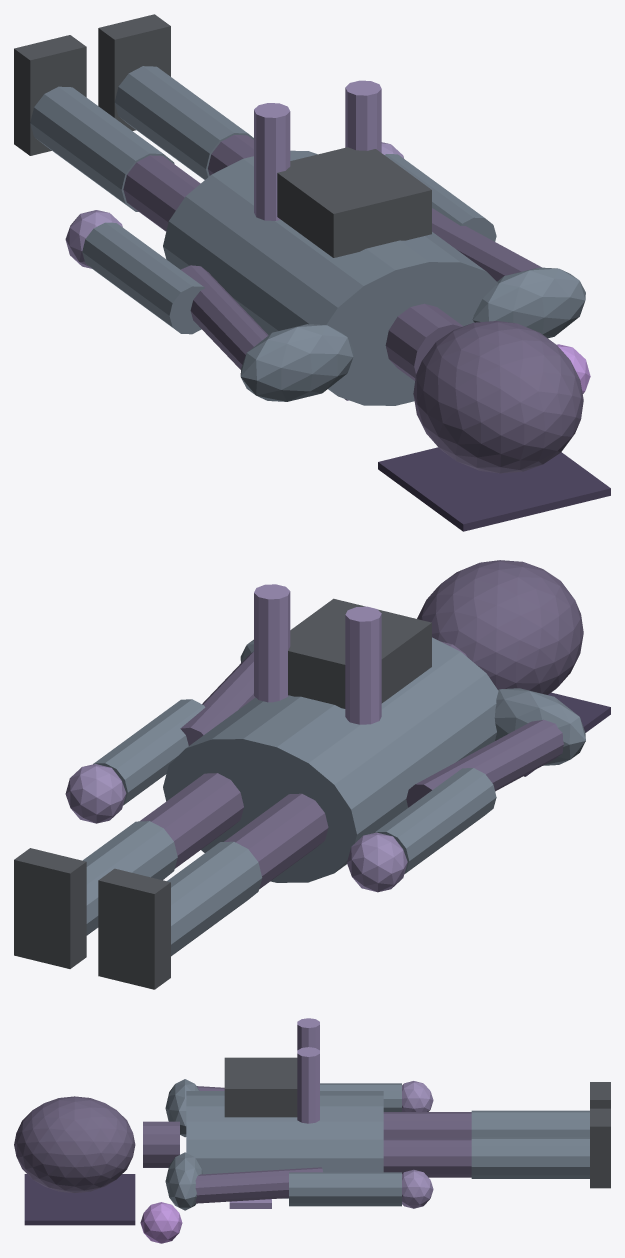
File: SWN-030_mael_corvic.glb
The picture shows the model from 3 angles, top to bottom: view 1: azimuth 30°, elevation 25°; view 2: azimuth 150°, elevation 25°; view 3: azimuth 270°, elevation 25°; orthographic projection. The views are drawn at different scales.
Parts seen in each view (by area): view 1: body_spine, head, back_thruster_pack, shadow_veil, greave_-1, greave_1, shoulder_plate_-1, forearm_gauntlet_-1, shoulder_plate_1, boot_-1, boot_1, upper_arm_-1 (+8 smaller); view 2: body_spine, head, back_thruster_pack, boot_-1, boot_1, greave_-1, forearm_gauntlet_-1, thigh_1, thigh_-1, upper_arm_-1, forearm_gauntlet_1, greave_1 (+7 smaller); view 3: body_spine, head, greave_1, shadow_veil, back_thruster_pack, forearm_gauntlet_1, greave_-1, thigh_1, upper_arm_1, thigh_-1, aether_thruster_1, boot_1 (+10 smaller).
Boxes of the visible parts, x1,y1,x2,y2 form: body_spine: [163, 150, 498, 405]; head: [413, 321, 583, 473]; back_thruster_pack: [277, 147, 431, 257]; shadow_veil: [378, 447, 610, 531]; greave_-1: [30, 86, 174, 211]; greave_1: [114, 66, 253, 179]; shoulder_plate_-1: [240, 324, 353, 401]; forearm_gauntlet_-1: [82, 222, 204, 334]; shoulder_plate_1: [472, 267, 585, 338]; boot_-1: [14, 35, 86, 155]; boot_1: [98, 14, 170, 130]; upper_arm_-1: [181, 265, 268, 369]; body_spine: [163, 637, 498, 882]; head: [417, 560, 583, 694]; back_thruster_pack: [288, 598, 431, 708]; boot_-1: [98, 868, 170, 989]; boot_1: [14, 848, 86, 968]; greave_-1: [167, 841, 262, 956]; forearm_gauntlet_-1: [374, 768, 496, 873]; thigh_1: [140, 773, 243, 868]; thigh_-1: [224, 793, 328, 889]; upper_arm_-1: [406, 719, 563, 807]; forearm_gauntlet_1: [93, 699, 205, 805]; greave_1: [83, 821, 177, 935]; body_spine: [186, 1091, 383, 1198]; head: [14, 1096, 135, 1193]; greave_1: [471, 1137, 589, 1178]; shadow_veil: [24, 1174, 135, 1225]; back_thruster_pack: [224, 1057, 297, 1117]; forearm_gauntlet_1: [289, 1172, 401, 1206]; greave_-1: [471, 1110, 589, 1137]; thigh_1: [383, 1138, 471, 1177]; upper_arm_1: [195, 1167, 322, 1203]; thigh_-1: [383, 1112, 471, 1138]; aether_thruster_1: [297, 1047, 319, 1123]; boot_1: [590, 1108, 610, 1188].
Bounding box in the file's own units: 0.982 × 0.69 × 2.27.
